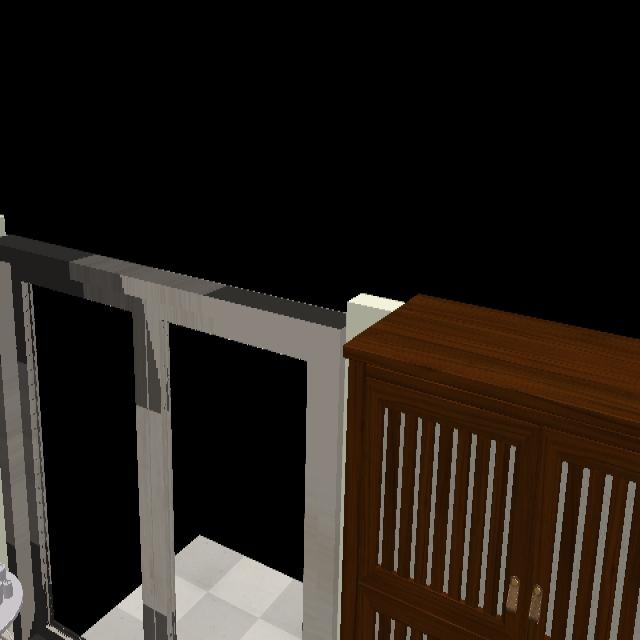wardrobe: (338, 295, 640, 640)
